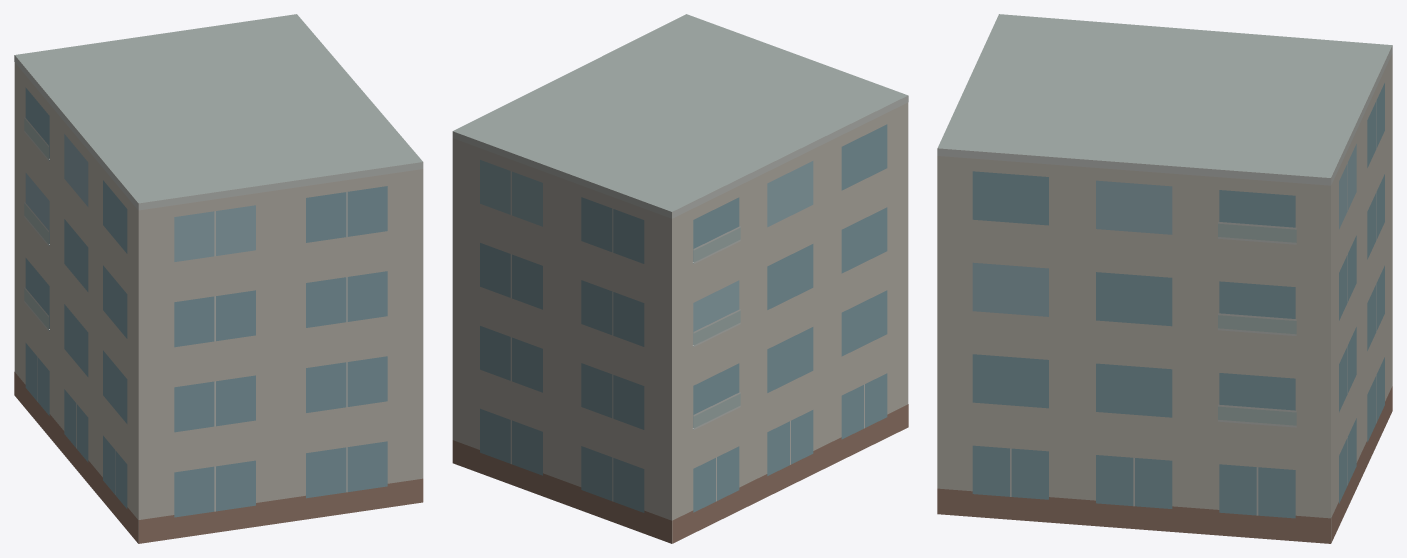
File: survey-upis-32785671.glb
3 renders of one model, left to right at view 1: azimuth 30°, elevation 25°; view 2: azimuth 150°, elevation 25°; view 3: azimuth 270°, elevation 25°, orthographic. The views are drawn at different scales.
Visible parts, largest first — view 1: survey-upis-32785671.tmp; view 2: survey-upis-32785671.tmp; view 3: survey-upis-32785671.tmp.
Part boxes in pixels (box(x1,y1,x2,y2)): survey-upis-32785671.tmp: box(14, 14, 423, 543); survey-upis-32785671.tmp: box(452, 14, 908, 543); survey-upis-32785671.tmp: box(937, 14, 1392, 543).
Bounding box in the file's own units: 11.36 × 11.8 × 13.32.
